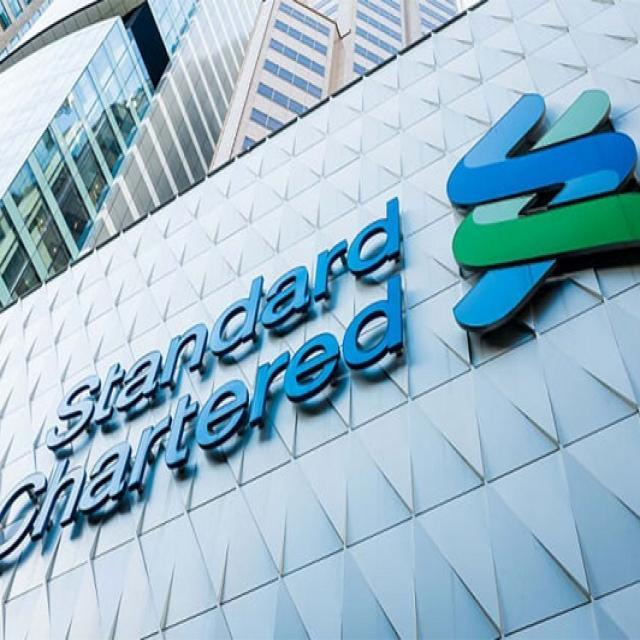Standard Chartered: (2, 92, 640, 554)
